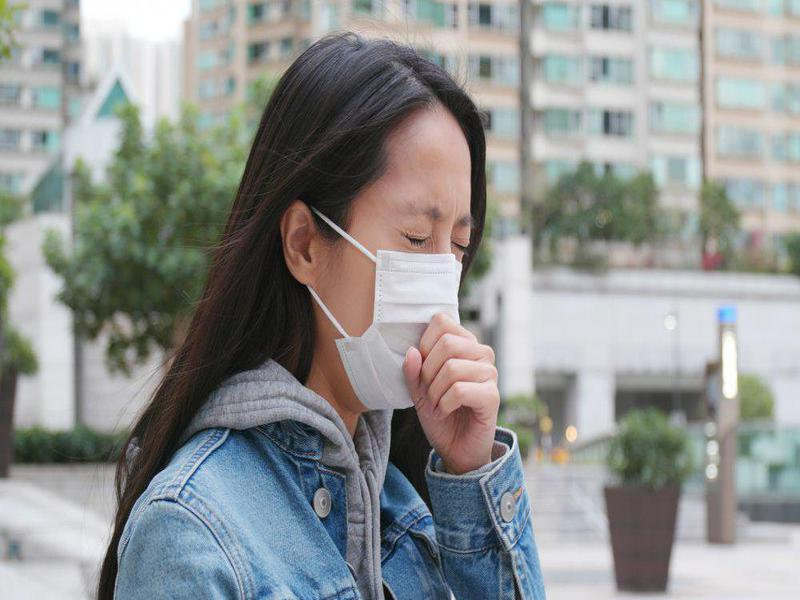with_mask: (244, 39, 480, 413)
